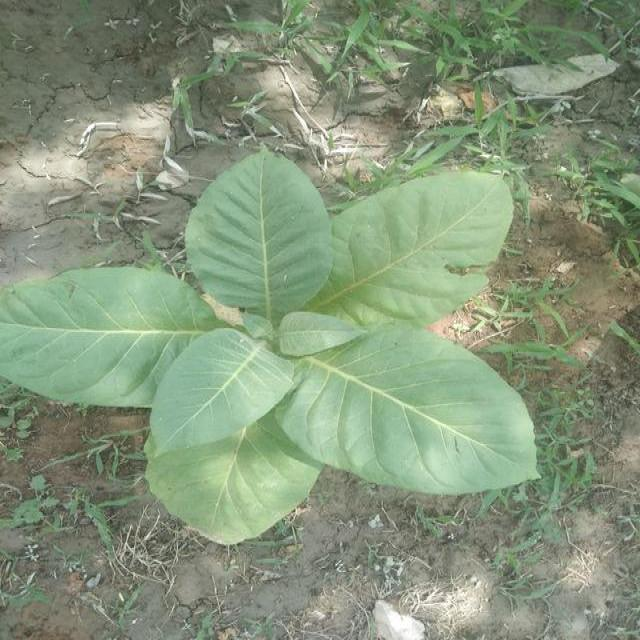crop: (2, 164, 518, 546)
